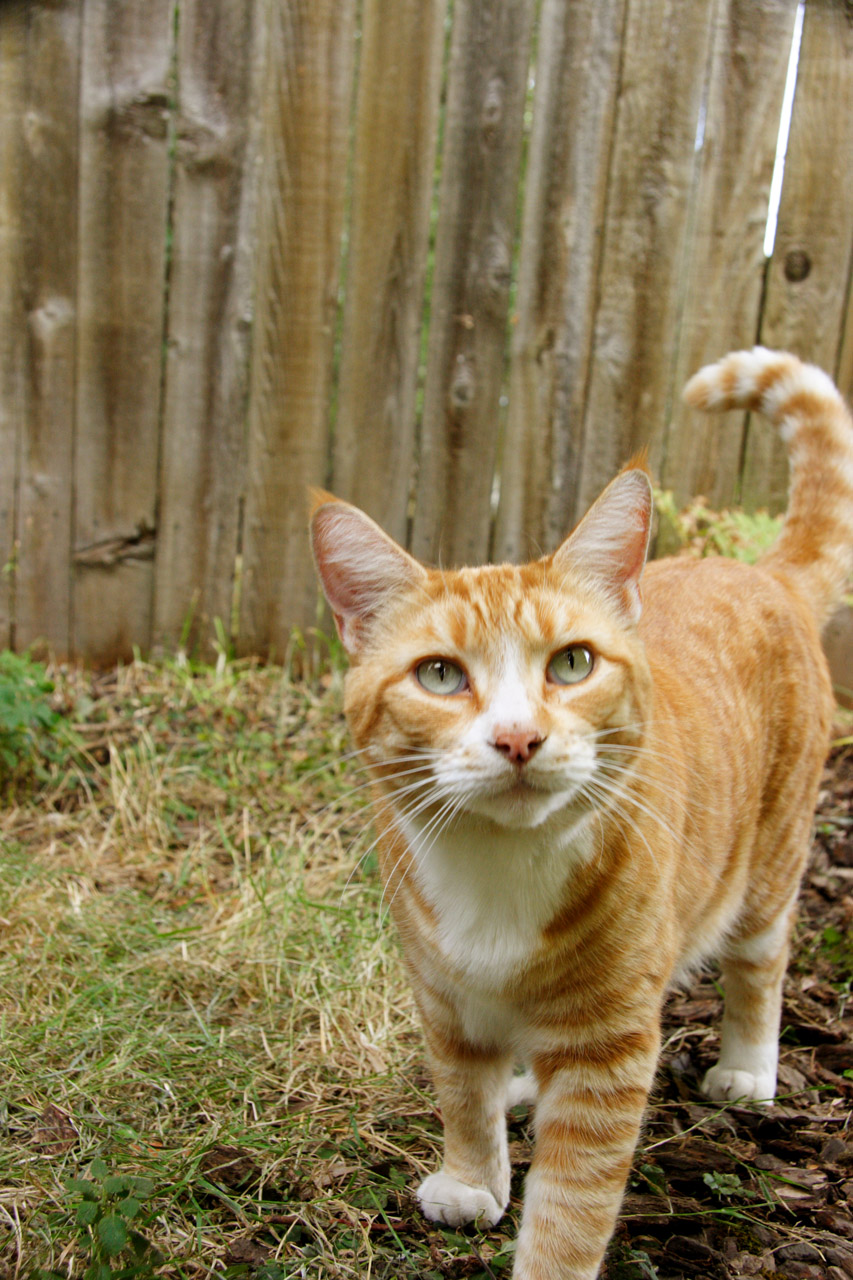cat: (297, 343, 852, 1279)
